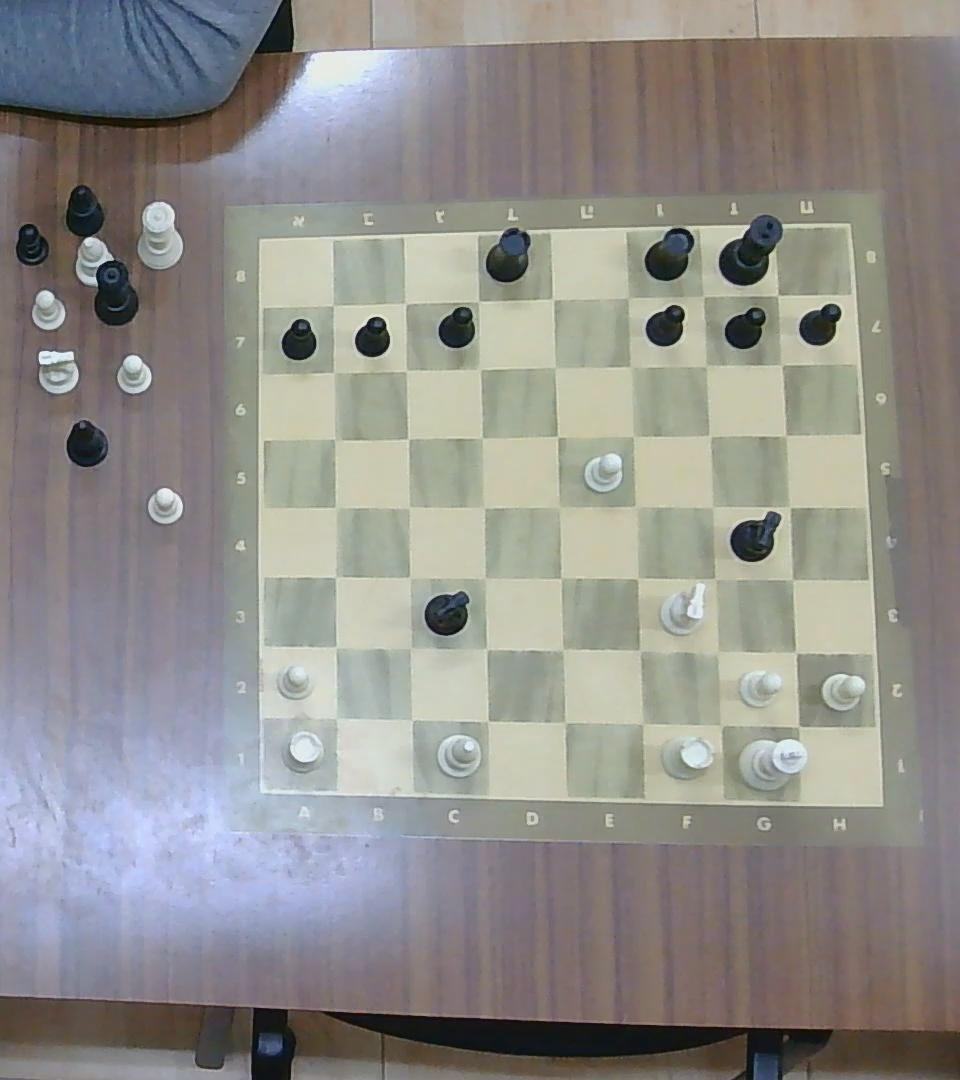xcorner: (780, 708, 815, 742), (624, 705, 658, 739), (702, 707, 737, 740), (701, 635, 734, 667), (470, 704, 502, 736), (548, 705, 579, 738), (624, 633, 655, 665), (547, 633, 578, 665), (776, 563, 808, 594), (394, 703, 425, 734), (470, 632, 501, 663), (320, 701, 351, 732), (780, 637, 811, 668), (394, 632, 424, 663), (622, 563, 652, 593), (470, 563, 500, 593), (699, 563, 728, 594), (547, 563, 576, 593), (320, 562, 350, 591), (320, 631, 350, 660), (615, 351, 645, 380), (622, 491, 651, 520), (698, 491, 727, 520), (394, 562, 423, 591), (775, 491, 804, 520), (545, 491, 573, 520), (470, 492, 498, 520), (619, 421, 647, 449), (466, 423, 495, 450), (393, 423, 422, 450), (395, 492, 423, 519), (543, 421, 571, 448), (322, 494, 350, 521), (538, 285, 566, 312), (540, 352, 568, 379), (321, 425, 349, 451), (615, 283, 641, 310), (696, 422, 722, 448), (693, 351, 719, 377), (690, 284, 716, 309), (768, 350, 794, 375), (322, 358, 348, 383), (467, 355, 492, 380), (773, 421, 798, 446), (465, 288, 491, 312), (393, 357, 418, 381), (393, 290, 417, 313), (767, 284, 790, 306), (321, 293, 343, 314)
